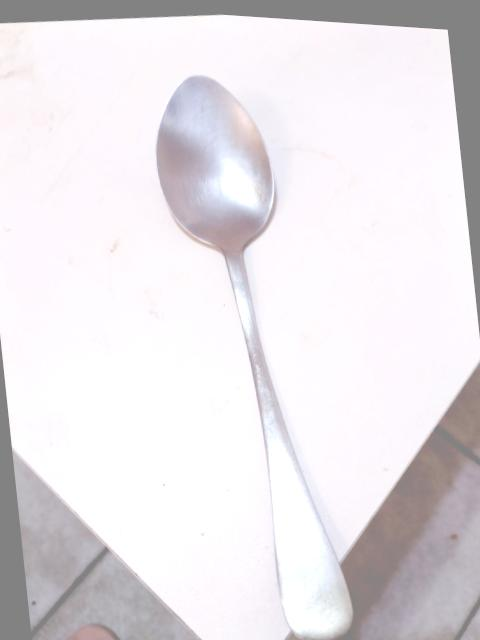Spoon: (156, 76, 352, 640)
